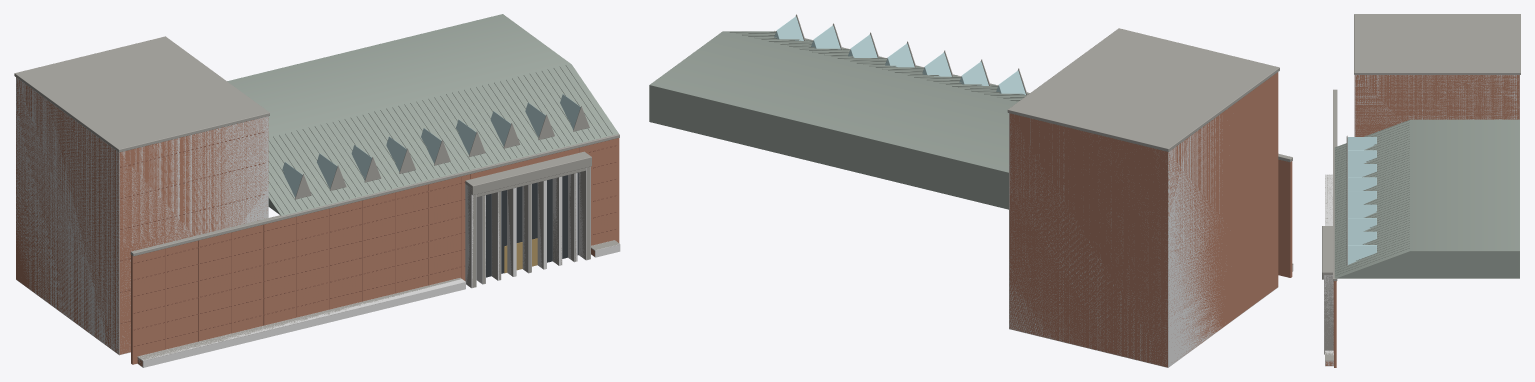
Rendered from meany.glb.
3 renders of one model, left to right at view 1: azimuth 30°, elevation 25°; view 2: azimuth 150°, elevation 25°; view 3: azimuth 270°, elevation 25°, orthographic. The views are drawn at different scales.
Visible parts, largest first — view 1: meany_M_brick, meany_M_roofmetal, COL_stage, meany_M_concrete, COL_plinth-23, meany_M_skylight, meany_M_brick_dark, meany_M_glass, COL_portal_l, COL_fin5, COL_fin0, COL_fin4 (+3 smaller); view 2: meany_M_brick, meany_M_roofmetal, meany_M_concrete, COL_stage, meany_M_skylight; view 3: meany_M_roofmetal, meany_M_concrete, meany_M_brick, meany_M_skylight, COL_stage, COL_portal_r, COL_plinth-23.
Part boxes in pixels (x1,y1,x2,y2): meany_M_brick: [16, 77, 619, 366]; meany_M_roofmetal: [227, 14, 618, 215]; COL_stage: [16, 78, 268, 355]; meany_M_concrete: [14, 36, 619, 360]; COL_plinth-23: [137, 279, 465, 367]; meany_M_skylight: [282, 94, 580, 197]; meany_M_brick_dark: [120, 131, 616, 349]; meany_M_glass: [486, 172, 578, 277]; COL_portal_l: [465, 184, 476, 288]; COL_fin5: [552, 176, 562, 265]; COL_fin0: [476, 195, 485, 284]; COL_fin4: [537, 180, 546, 269]; meany_M_brick: [1009, 72, 1292, 367]; meany_M_roofmetal: [649, 31, 1028, 209]; meany_M_concrete: [774, 14, 1293, 264]; COL_stage: [1009, 113, 1278, 367]; meany_M_skylight: [774, 16, 1025, 94]; meany_M_roofmetal: [1334, 119, 1519, 278]; meany_M_concrete: [1322, 14, 1520, 360]; meany_M_brick: [1325, 75, 1519, 367]; meany_M_skylight: [1347, 137, 1376, 264]; COL_stage: [1355, 75, 1519, 136]; COL_portal_r: [1324, 275, 1333, 354]; COL_plinth-23: [1325, 174, 1332, 225].
Size of the model in its own units: 49.02 by 19.8 by 21.7.
